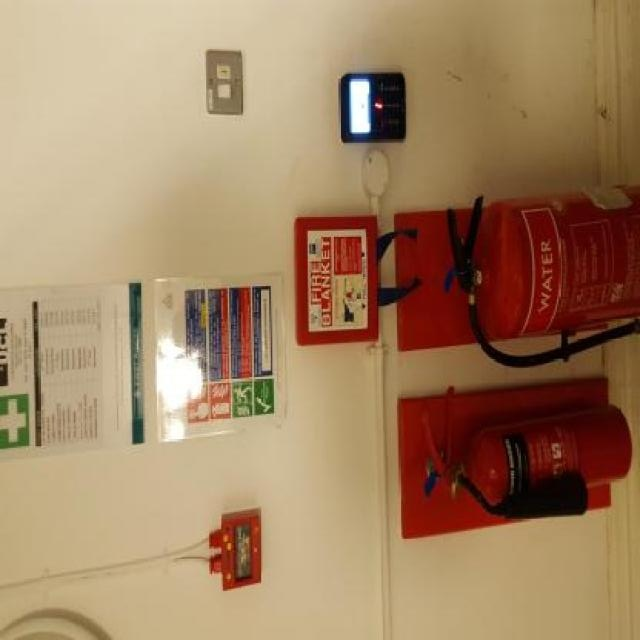fire extinguisher: (446, 185, 640, 366), (422, 385, 633, 521)
